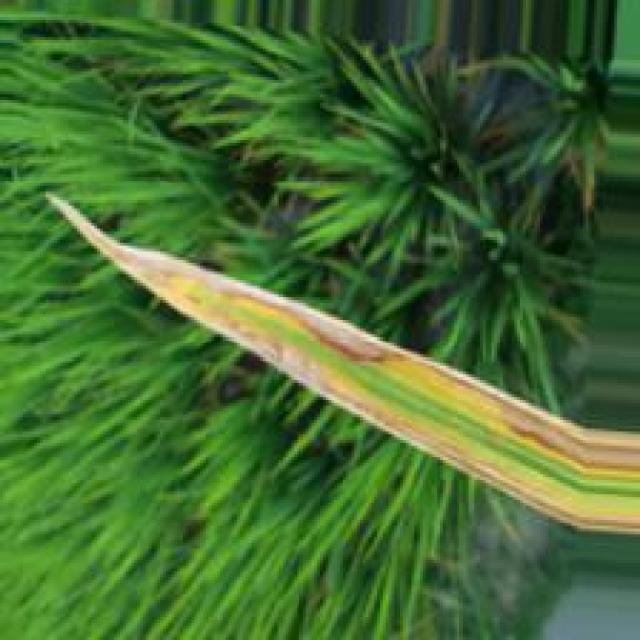Bacterial_Leaf_Blight: (82, 222, 639, 531)
